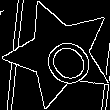O_NW: (26, 20, 93, 87)
